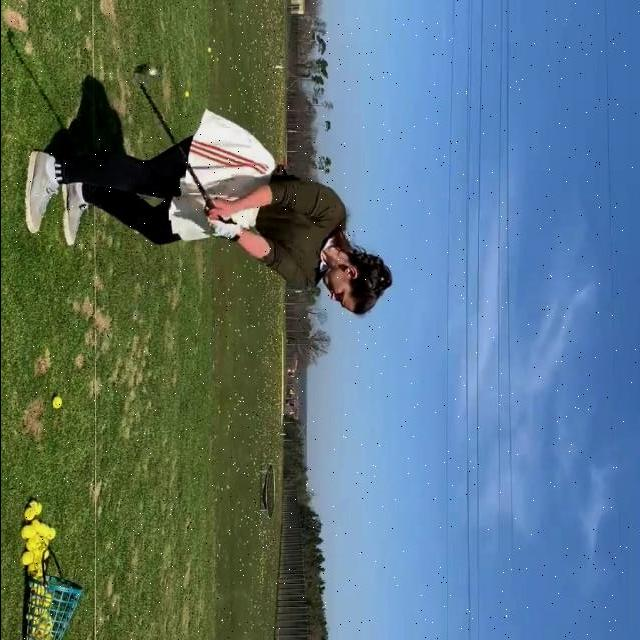ClubHandle: (130, 64, 216, 215)
ClubHead: (136, 63, 158, 80)
GolfBall: (34, 501, 43, 515), (19, 550, 28, 563), (47, 528, 56, 541), (22, 525, 30, 537), (52, 399, 60, 409), (45, 591, 51, 603), (24, 509, 31, 519), (42, 550, 49, 560), (32, 523, 38, 534), (25, 541, 32, 550), (29, 503, 34, 515), (37, 574, 43, 583), (30, 616, 36, 625), (27, 565, 32, 575), (41, 631, 48, 638), (31, 584, 38, 591), (39, 527, 45, 535), (33, 563, 39, 571), (47, 620, 53, 628), (40, 535, 45, 544), (40, 609, 45, 618), (33, 533, 39, 540), (27, 555, 33, 562), (30, 628, 36, 635), (42, 541, 47, 549), (39, 589, 44, 597), (33, 551, 38, 558), (39, 547, 44, 554), (34, 608, 38, 615), (43, 601, 47, 608), (42, 564, 45, 571), (34, 540, 38, 545)
